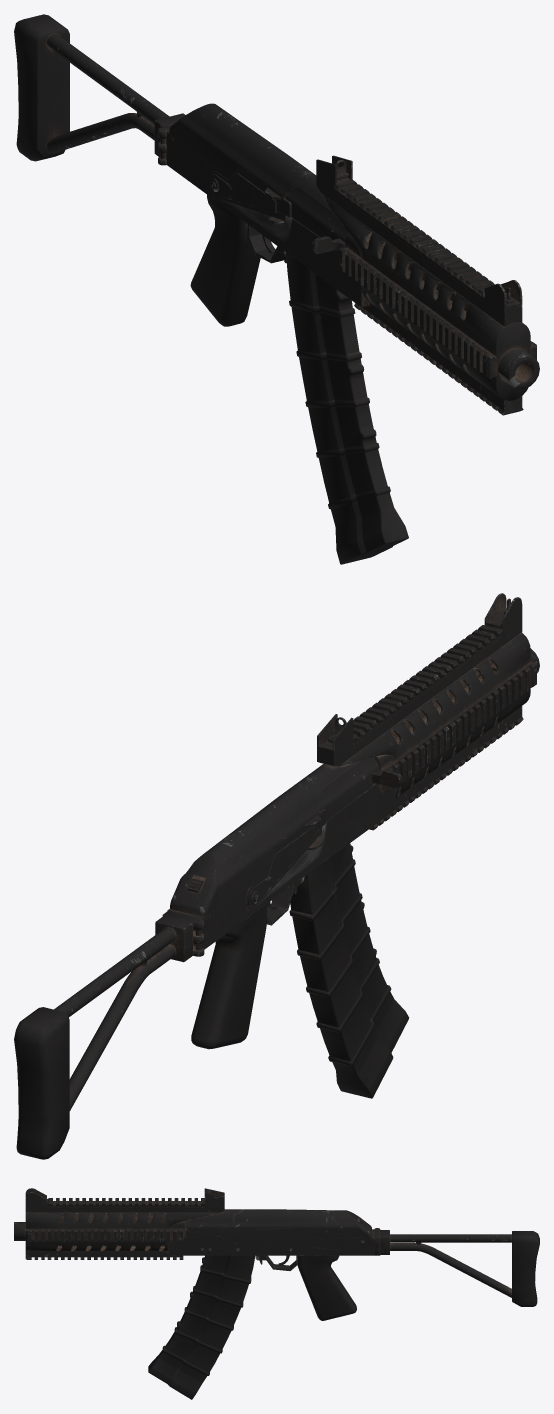
Rendered from shotgun.glb.
The picture shows the model from 3 angles, top to bottom: view 1: azimuth 30°, elevation 25°; view 2: azimuth 150°, elevation 25°; view 3: azimuth 270°, elevation 25°; orthographic projection. The views are drawn at different scales.
Parts seen in each view (by area): view 1: Cube.011; view 2: Cube.011; view 3: Cube.011.
Part boxes in pixels (x1,y1,x2,y2): Cube.011: [14, 14, 539, 564]; Cube.011: [14, 593, 539, 1159]; Cube.011: [14, 1188, 539, 1399].
Size of the model in its own units: 0.1268 by 0.6866 by 1.59.
Materials: 1 (1 with a texture image).
